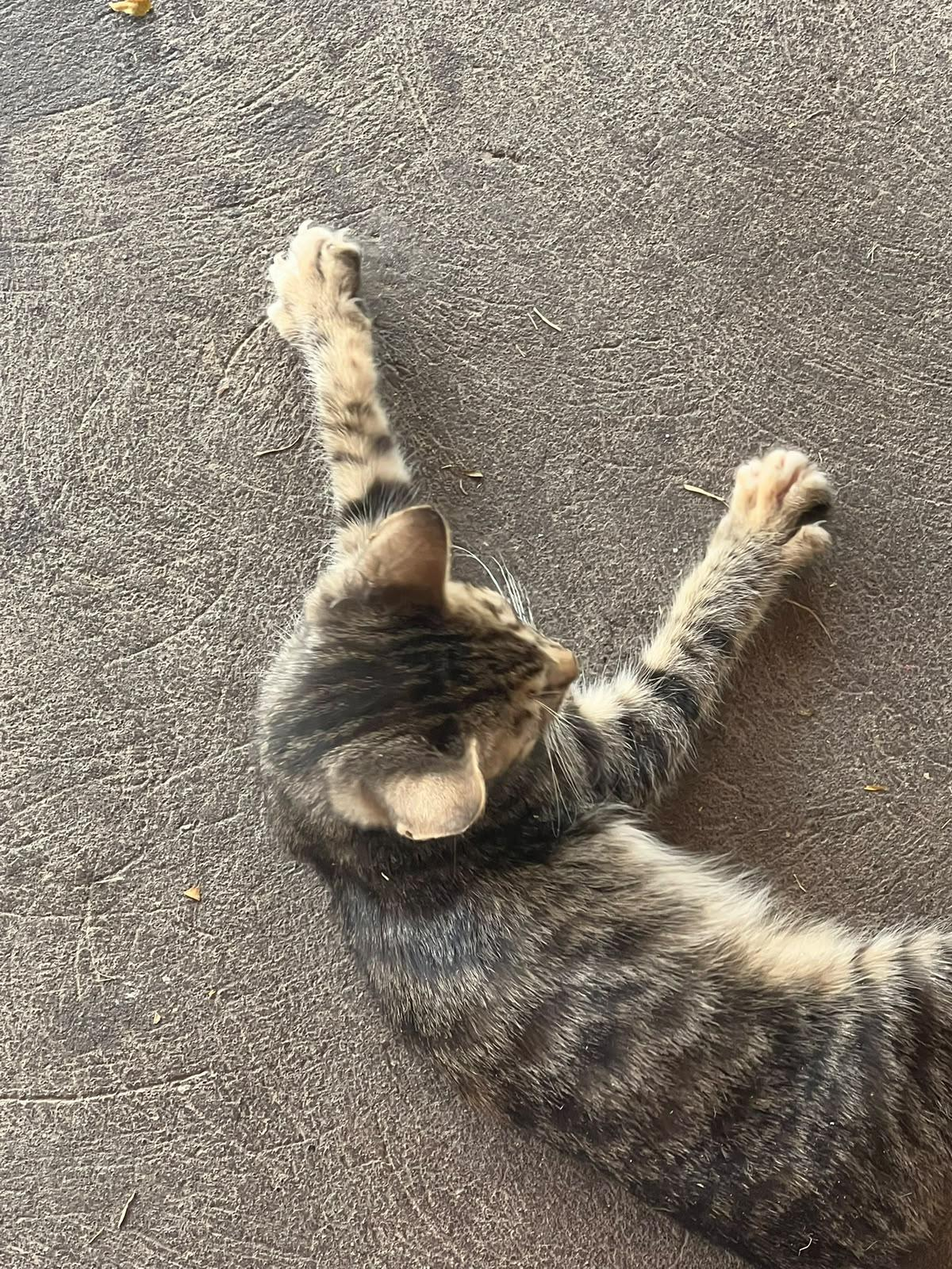macka: (263, 221, 951, 1268)
